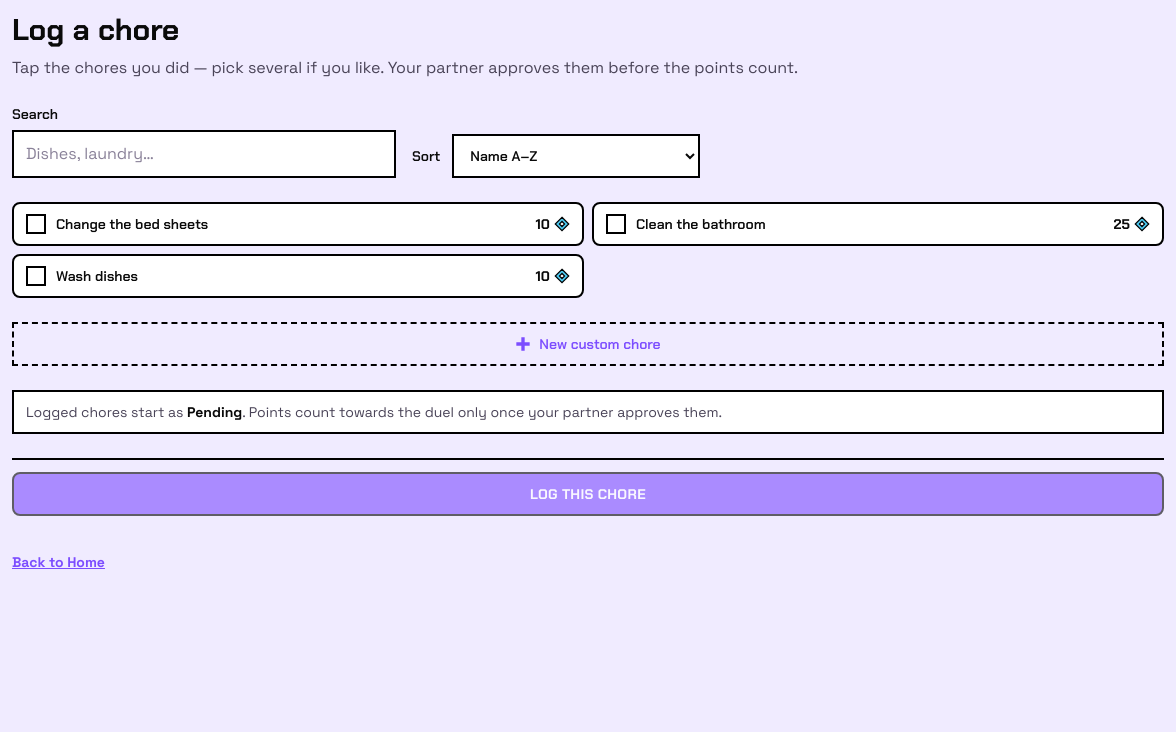
selection › selects on tap and enables logging
Click the button "Wash dishes 10". click: click(97, 276)
box: x1=12 y1=254 x2=584 y2=298
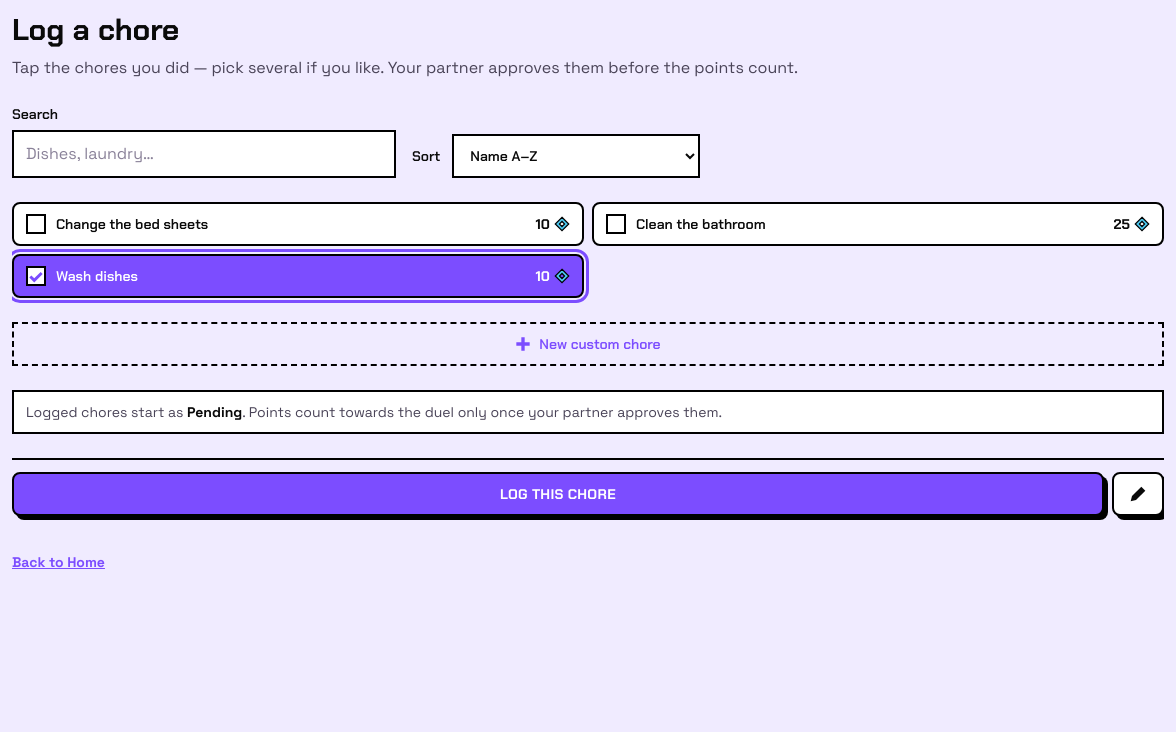
Expected: the button "Log this chore" is enabled, x1=12 y1=472 x2=1104 y2=516
